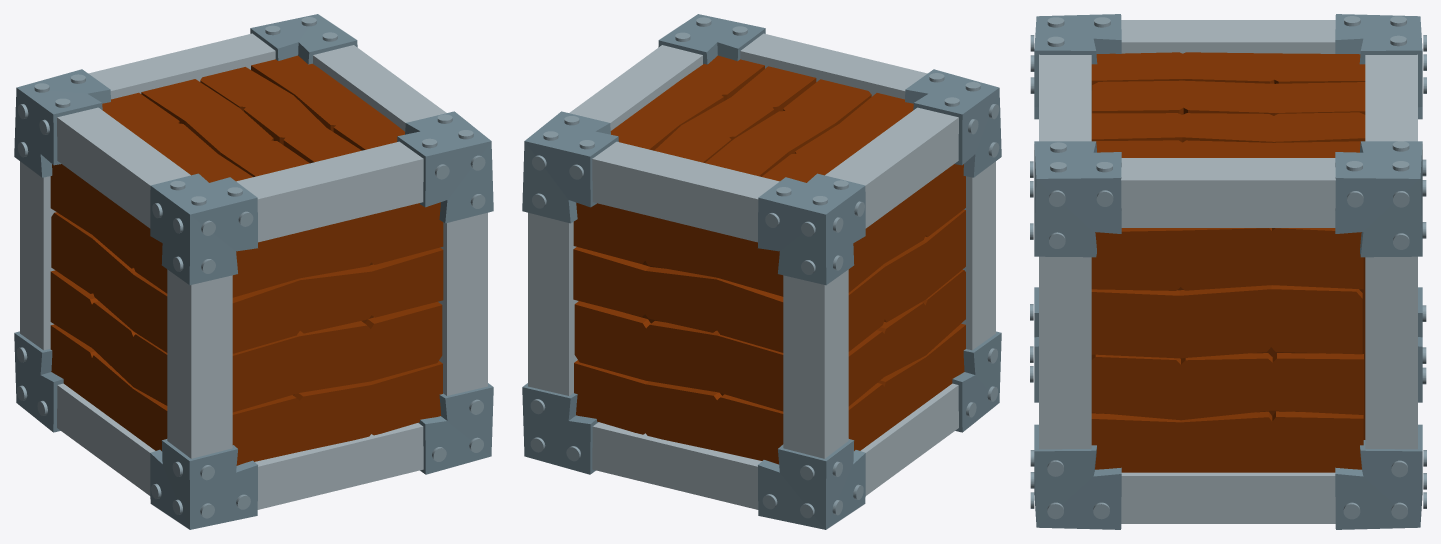
The model's file is low_poly_box_in_blender_for_videogames.glb.
The picture shows the model from 3 angles, left to right: view 1: azimuth 30°, elevation 25°; view 2: azimuth 150°, elevation 25°; view 3: azimuth 270°, elevation 25°; orthographic projection. The views are drawn at different scales.
Parts seen in each view (by area): view 1: Cylinder.001; view 2: Cylinder.001; view 3: Cylinder.001.
Boxes of the visible parts, x1,y1,x2,y2 form: Cylinder.001: [14, 14, 493, 529]; Cylinder.001: [522, 14, 1001, 529]; Cylinder.001: [1030, 14, 1426, 529].
Size of the model in its own units: 2.09 by 2.09 by 2.09.
1 material, 1 textured.
